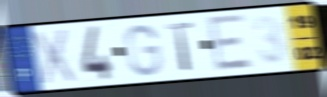3: (253, 13, 287, 67)
4: (80, 24, 115, 83)
E: (205, 13, 255, 75)
G: (123, 23, 164, 78)
T: (164, 20, 196, 73)
X: (32, 27, 78, 87)
